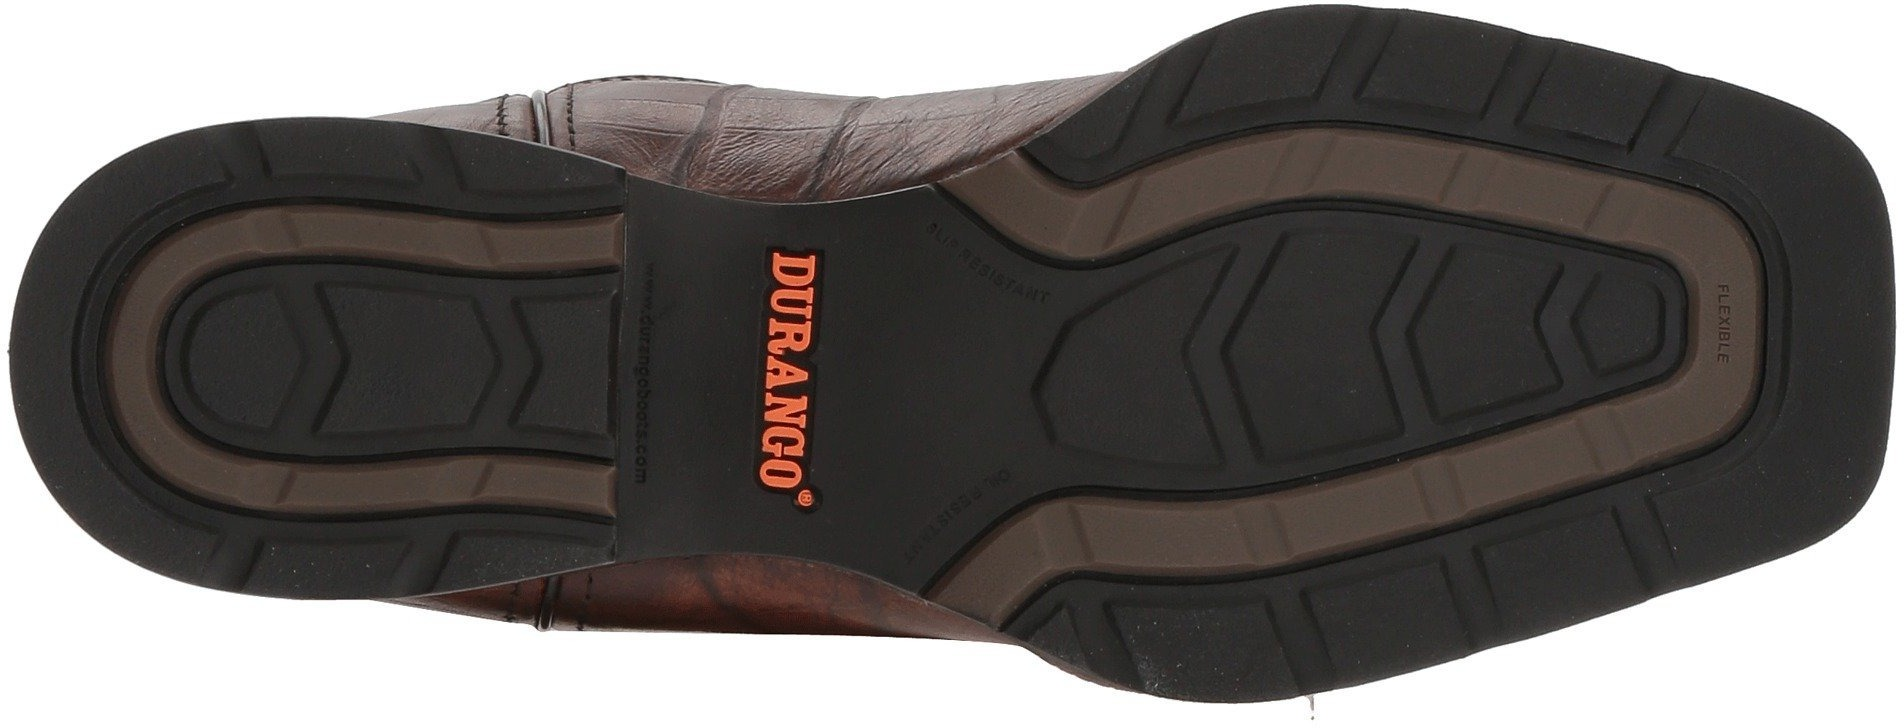circle: (49, 212, 313, 497)
exclude: (614, 170, 678, 565)
other: (852, 300, 1016, 453), (1793, 248, 1894, 349)
polygon: (1563, 262, 1677, 381)
quad: (1016, 132, 1580, 612), (280, 200, 617, 525)
text: (733, 243, 852, 359), (733, 353, 841, 462), (750, 453, 823, 525), (1702, 277, 1751, 328), (1706, 326, 1750, 372)
